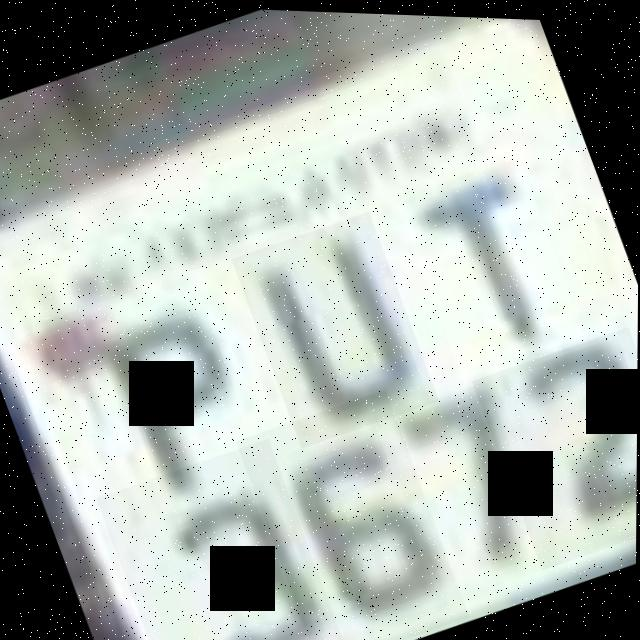2: (471, 317, 638, 569)
3: (96, 431, 350, 640)
6: (235, 382, 472, 640)
7: (372, 363, 565, 604)
P: (72, 273, 266, 507)
T: (397, 155, 590, 388)
U: (231, 205, 441, 450)
